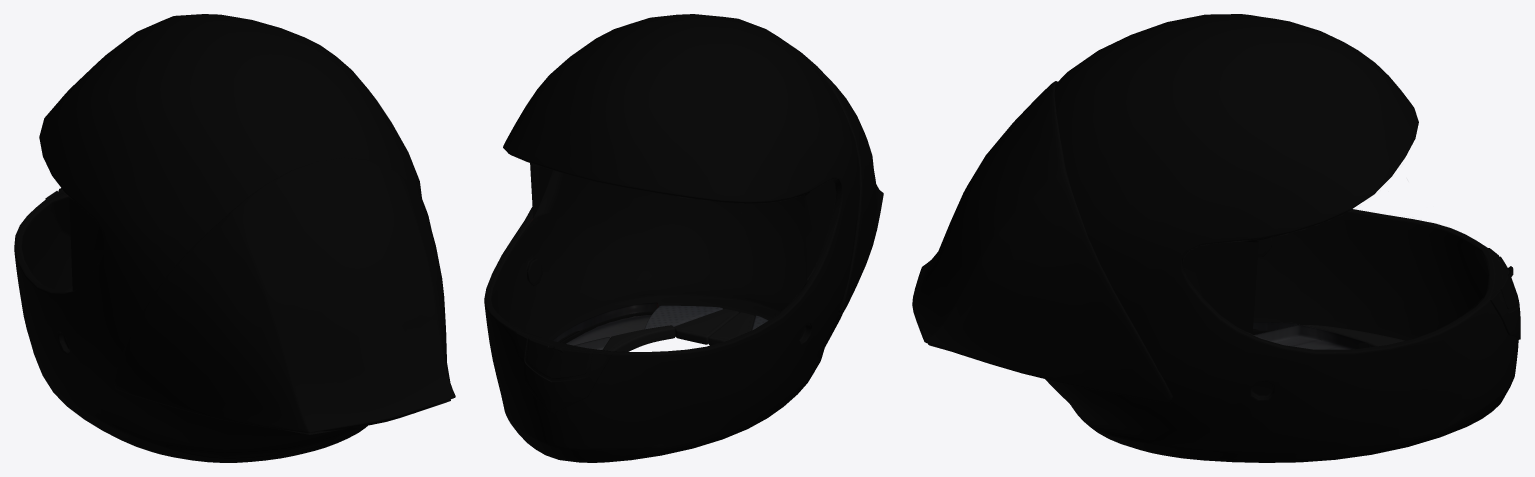
File: motorcycle_helmet.glb
3 views of the same model, side by side, from view 1: azimuth 30°, elevation 25°; view 2: azimuth 150°, elevation 25°; view 3: azimuth 270°, elevation 25° (orthographic). The views are drawn at different scales.
Visible parts, largest first — view 1: Plane.003_Baked; view 2: Plane.003_Baked; view 3: Plane.003_Baked.
Part boxes in pixels (x1,y1,x2,y2): Plane.003_Baked: [14, 14, 455, 462]; Plane.003_Baked: [484, 14, 883, 462]; Plane.003_Baked: [912, 14, 1520, 462].
Size of the model in its own units: 3.09 by 3.49 by 5.17.
1 material, 1 textured.
